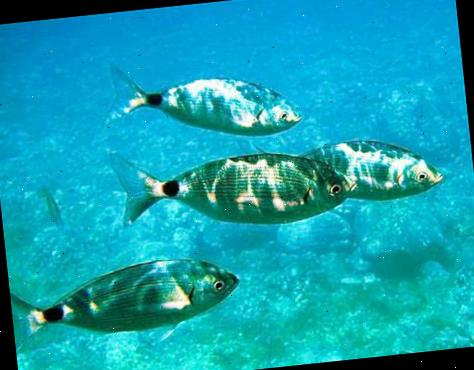fish: (110, 127, 360, 240), (8, 251, 245, 359), (95, 43, 302, 152), (252, 124, 445, 214)
